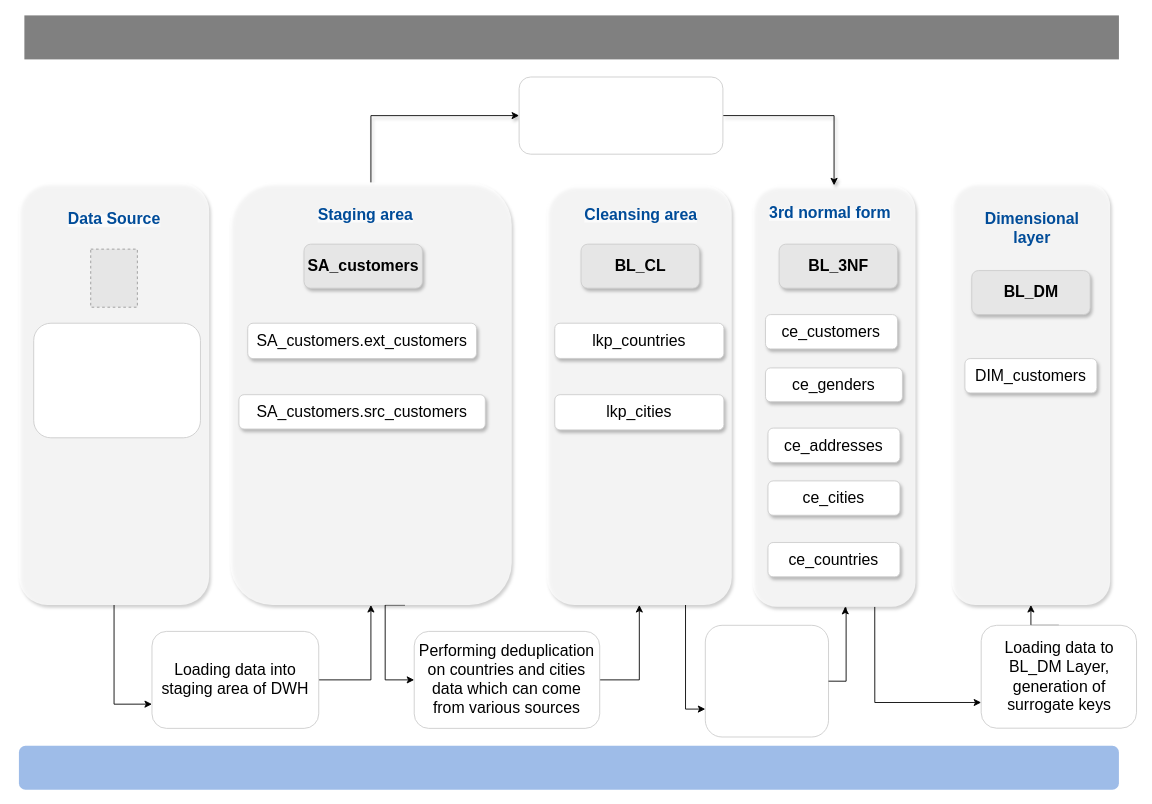
The diagram is 1152 pixels wide and 804 high, and some of its shapes have lost their labels. Grey dashed boxes stand in for pictures. The shapes that lost their labels are listed below. From the top down, each one's centre as x and y in pixels, then its label:
[571,37]: Data Flow Diagram of DIM_customers dimension
[620,115]: Loading part of the data to BL_3NF Layer, generation of surrogate keys
[116,380]: customers.csv Info about cutomers of online sale channel (personal and geo data)
[766,680]: Loading data to BL_3NF Layer, generation of surrogate keys
[568,767]: METADATA
